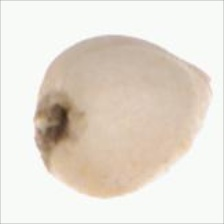L3: (187, 63, 213, 112)
L4: (33, 35, 212, 199)
